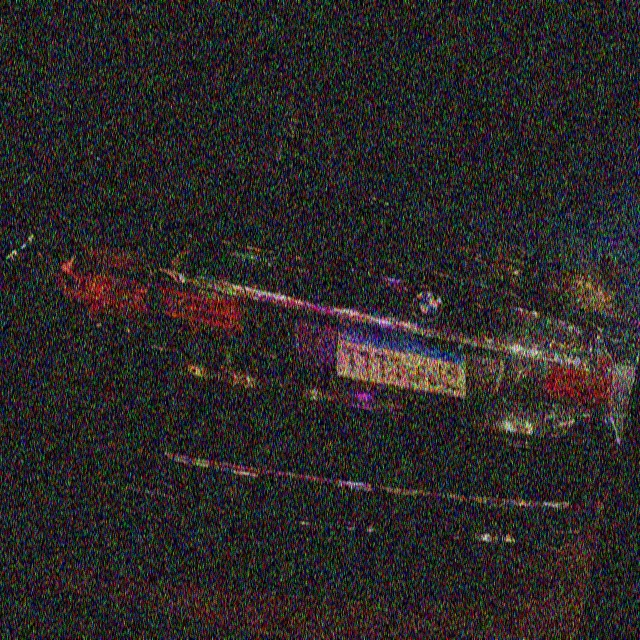License Plate: (324, 315, 484, 409)
